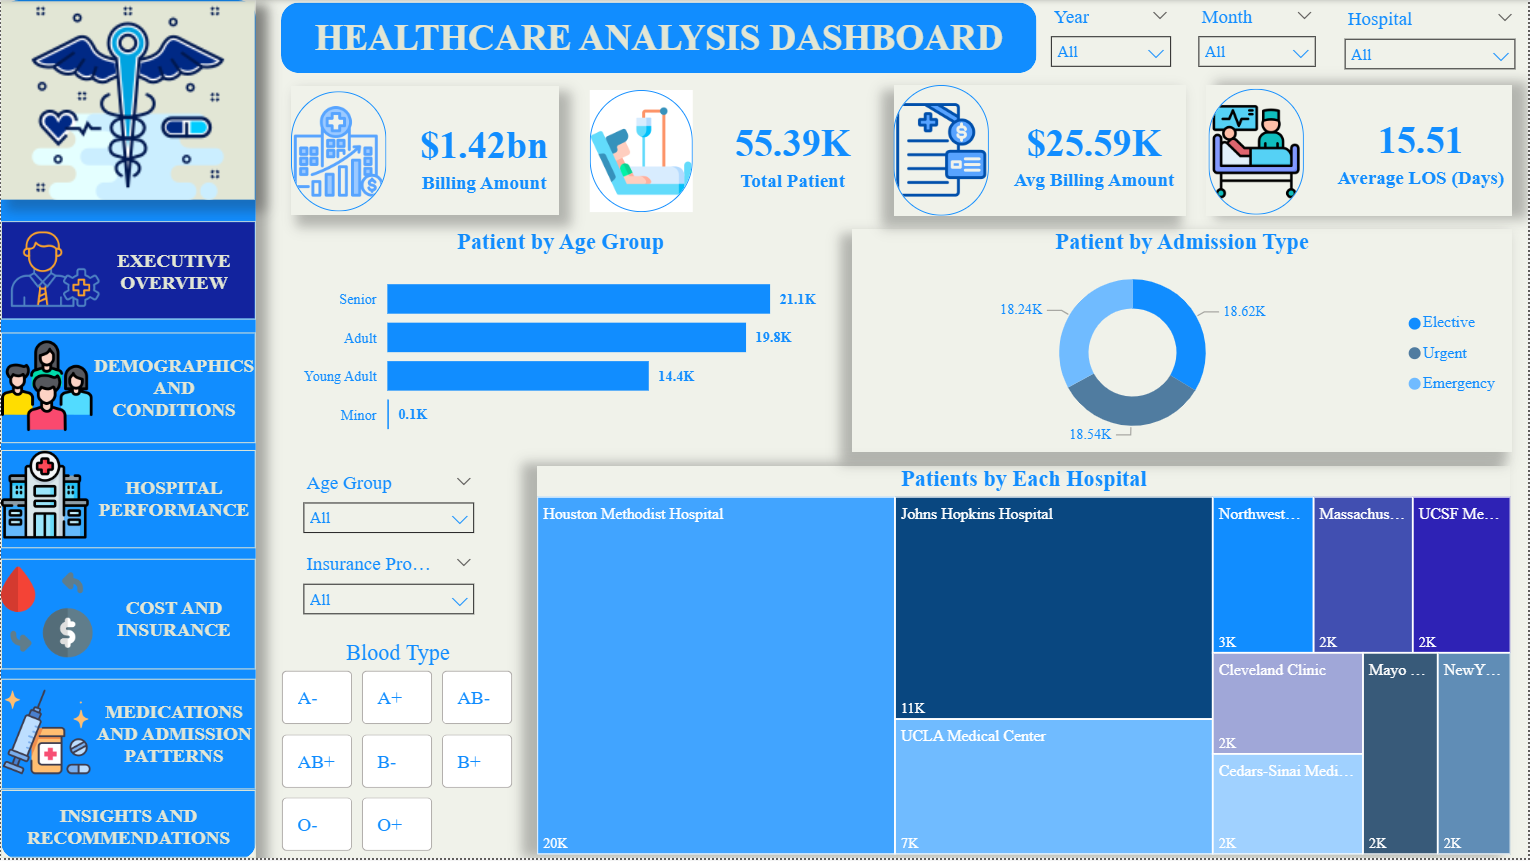

The dashboard page shown, as its layout file describes it:
{"tool":"powerbi","page":{"name":"Page 1","canvas":[1280,720],"ordinal":0},"visuals":[{"type":"shape","box":[0,0,214,720.9],"z":0,"group":"g9"},{"type":"shape","box":[234.9,2.3,633.7,59.3],"z":0},{"type":"group","id":"g1","title":"Group 5","box":[748.6,70.8,245.3,109.3],"z":0,"group":"g7"},{"type":"group","id":"g2","title":"Group 2","box":[748.6,70.8,245.3,109.3],"z":0,"group":"g1"},{"type":"shape","box":[748.6,70.8,245.3,109.3],"z":0,"group":"g2"},{"type":"group","id":"g3","title":"Group 5","box":[1010.9,71,257.1,109.3],"z":0,"group":"g8"},{"type":"group","id":"g4","title":"Group 2","box":[1010.9,71,257.1,109.3],"z":0,"group":"g3"},{"type":"shape","box":[1010.9,71,257.1,109.3],"z":0,"group":"g4"},{"type":"shape","box":[243,72.1,224.4,108.1],"z":0,"group":"g14"},{"type":"shape","box":[491.9,72.1,238.4,106.9],"z":0,"group":"g17"},{"type":"image","box":[749,71,80.2,109.3],"z":1000,"group":"g7"},{"type":"image","box":[1013.2,74.5,80.2,105.8],"z":1000,"group":"g8"},{"type":"card","fields":{"Values":["Count(Data.Patient ID)"]},"box":[600,77.7,129.1,101.2],"z":1000,"group":"g17"},{"type":"donutChart","title":"Patient by Admission Type","fields":{"Category":["Data.Admission Type"],"Y":["CountNonNull(Data.Admission Type)"]},"box":[714,191.9,553.5,187.2],"z":1000},{"type":"clusteredBarChart","title":"Patient by Age Group","fields":{"Category":["Data.Age Group"],"Y":["CountNonNull(Data.Age Group)"]},"box":[243,191.9,452.3,187.2],"z":2000},{"type":"card","fields":{"Values":["Avg(Data.Length of Stay (Days))"]},"box":[1115.6,71,151.2,108.1],"z":3000,"group":"g3"},{"type":"card","fields":{"Values":["Avg(Data.Billing Amount)"]},"box":[840.9,74.5,152.3,104.7],"z":3000,"group":"g1"},{"type":"treemap","title":"Patients by Each Hospital","fields":{"Group":["Data.Hospital"],"Values":["Data.Total Patients"]},"box":[450,390.7,816.3,325.6],"z":3000},{"type":"slicer","fields":{"Values":["Data.Date of Admission.Variation.Date Hierarchy.Year"]},"box":[869.8,0,120.9,61.6],"z":4000},{"type":"slicer","fields":{"Values":["Data.Hospital"]},"box":[1116.3,2.3,164,59.3],"z":5000},{"type":"card","fields":{"Values":["Sum(Data.Billing Amount)"]},"box":[343.9,79.3,123.3,100],"z":6000,"group":"g14"},{"type":"slicer","fields":{"Values":["Data.Age Group"]},"box":[243,390.7,164,68.6],"z":6000},{"type":"slicer","fields":{"Values":["Data.Insurance Provider"]},"box":[243,459.3,164,65.1],"z":7000},{"type":"advancedSlicerVisual","fields":{"Values":["Data.Blood Type"]},"box":[230.2,537.2,204.7,182.6],"z":8000},{"type":"slicer","fields":{"Values":["Data.Date of Admission.Variation.Date Hierarchy.Month"]},"box":[994.2,0,118.6,61.6],"z":9000},{"type":"group","id":"g5","title":"Group 3","box":[491.9,72.1,238.4,106.9],"z":10000},{"type":"group","id":"g6","title":"Group 4","box":[243,72.1,224.4,108.1],"z":11000},{"type":"group","id":"g7","title":"Group 6","box":[748.6,70.8,245.3,109.5],"z":12000},{"type":"group","id":"g8","title":"Group 6","box":[1010.9,71,257.1,109.3],"z":13000},{"type":"group","id":"g9","title":"Group 10","box":[0,0,214,720.9],"z":14000},{"type":"group","id":"g10","title":"Group 7","box":[0,184.4,214,83.3],"z":15000,"group":"g9"},{"type":"group","id":"g11","title":"Group 9","box":[0,662.8,214,57],"z":15000},{"type":"shape","box":[0,279.2,214,93],"z":16000,"group":"g13"},{"type":"group","id":"g12","title":"Group 8","box":[0,369.6,214,89.5],"z":16000,"group":"g9"},{"type":"shape","box":[0,468.8,214,93],"z":16000,"group":"g15"},{"type":"shape","box":[0,569.6,214,93],"z":16000,"group":"g16"},{"type":"shape","box":[0,662.8,214,57],"z":16000,"group":"g11"},{"type":"group","id":"g13","title":"Group 9","box":[0,279.2,214,93],"z":17000,"group":"g9"},{"type":"group","id":"g14","title":"Group 1","box":[243,72.1,224.4,108.1],"z":18000,"group":"g6"},{"type":"group","id":"g15","title":"Group 9","box":[0,468.8,214,93],"z":18000,"group":"g9"},{"type":"shape","box":[0,185.2,214,82.6],"z":18500,"group":"g10"},{"type":"image","box":[243,76.8,80.2,101.2],"z":19000,"group":"g6"},{"type":"group","id":"g16","title":"Group 9","box":[0,569.6,214,93],"z":19000,"group":"g9"},{"type":"shape","box":[0,376.5,214,82.6],"z":19500,"group":"g12"},{"type":"image","box":[0,1.2,212.8,166.3],"z":20000,"group":"g9"},{"type":"group","id":"g17","title":"Group 2","box":[491.9,72.1,238.4,106.9],"z":20000,"group":"g5"},{"type":"image","box":[494.2,75.6,86,102.3],"z":21000,"group":"g5"},{"type":"shape","box":[76.7,187.4,137.2,80.2],"z":21500,"group":"g10"},{"type":"image","box":[3.5,184.4,84.9,82.6],"z":22000,"group":"g10"},{"type":"image","box":[0,369.6,73.3,89.5],"z":23000,"group":"g12"},{"type":"shape","box":[76.7,379.4,137.2,79.1],"z":26500,"group":"g12"},{"type":"image","box":[0,280.3,76.7,87.2],"z":27001,"group":"g13"},{"type":"image","box":[0,469.9,76.7,87.2],"z":27001,"group":"g15"},{"type":"image","box":[0,570.7,76.7,87.2],"z":27001,"group":"g16"},{"type":"shape","box":[76.7,280.1,137.2,90.7],"z":27501,"group":"g13"},{"type":"shape","box":[76.7,477.2,137.2,83.7],"z":27501,"group":"g15"},{"type":"shape","box":[76.7,570.1,137.2,91.9],"z":27501,"group":"g16"},{"type":"shape","box":[0,666.5,214,52.3],"z":27501,"group":"g11"}]}

Visuals, with their boxes in screenshot pixels (x1, y1, x2, y2), scaled from the page's 1280x720 canvas onto the 1530x861 screenshot:
shape: <bbox>0, 0, 256, 860</bbox>
shape: <bbox>281, 3, 1038, 74</bbox>
"Group 5" group: <bbox>895, 85, 1188, 215</bbox>
"Group 2" group: <bbox>895, 85, 1188, 215</bbox>
shape: <bbox>895, 85, 1188, 215</bbox>
"Group 5" group: <bbox>1208, 85, 1516, 216</bbox>
"Group 2" group: <bbox>1208, 85, 1516, 216</bbox>
shape: <bbox>1208, 85, 1516, 216</bbox>
shape: <bbox>290, 86, 559, 215</bbox>
shape: <bbox>588, 86, 873, 214</bbox>
image: <bbox>895, 85, 991, 216</bbox>
image: <bbox>1211, 89, 1307, 216</bbox>
card - Count(Data.Patient ID): <bbox>717, 93, 872, 214</bbox>
"Patient by Admission Type" donutChart: <bbox>853, 229, 1515, 453</bbox>
"Patient by Age Group" clusteredBarChart: <bbox>290, 229, 831, 453</bbox>
card - Avg(Data.Length of Stay (Days)): <bbox>1333, 85, 1514, 214</bbox>
card - Avg(Data.Billing Amount): <bbox>1005, 89, 1187, 214</bbox>
"Patients by Each Hospital" treemap: <bbox>538, 467, 1514, 857</bbox>
slicer - Data.Date of Admission.Variation.Date Hierarchy.Year: <bbox>1040, 0, 1184, 74</bbox>
slicer - Data.Hospital: <bbox>1334, 3, 1529, 74</bbox>
card - Sum(Data.Billing Amount): <bbox>411, 95, 558, 214</bbox>
slicer - Data.Age Group: <bbox>290, 467, 486, 549</bbox>
slicer - Data.Insurance Provider: <bbox>290, 549, 486, 627</bbox>
advancedSlicerVisual - Data.Blood Type: <bbox>275, 642, 520, 860</bbox>
slicer - Data.Date of Admission.Variation.Date Hierarchy.Month: <bbox>1188, 0, 1330, 74</bbox>
"Group 3" group: <bbox>588, 86, 873, 214</bbox>
"Group 4" group: <bbox>290, 86, 559, 215</bbox>
"Group 6" group: <bbox>895, 85, 1188, 216</bbox>
"Group 6" group: <bbox>1208, 85, 1516, 216</bbox>
"Group 10" group: <bbox>0, 0, 256, 860</bbox>
"Group 7" group: <bbox>0, 221, 256, 320</bbox>
"Group 9" group: <bbox>0, 793, 256, 860</bbox>
shape: <bbox>0, 334, 256, 445</bbox>
"Group 8" group: <bbox>0, 442, 256, 549</bbox>
shape: <bbox>0, 561, 256, 672</bbox>
shape: <bbox>0, 681, 256, 792</bbox>
shape: <bbox>0, 793, 256, 860</bbox>
"Group 9" group: <bbox>0, 334, 256, 445</bbox>
"Group 1" group: <bbox>290, 86, 559, 215</bbox>
"Group 9" group: <bbox>0, 561, 256, 672</bbox>
shape: <bbox>0, 221, 256, 320</bbox>
image: <bbox>290, 92, 386, 213</bbox>
"Group 9" group: <bbox>0, 681, 256, 792</bbox>
shape: <bbox>0, 450, 256, 549</bbox>
image: <bbox>0, 1, 254, 200</bbox>
"Group 2" group: <bbox>588, 86, 873, 214</bbox>
image: <bbox>591, 90, 694, 213</bbox>
shape: <bbox>92, 224, 256, 320</bbox>
image: <bbox>4, 221, 106, 319</bbox>
image: <bbox>0, 442, 88, 549</bbox>
shape: <bbox>92, 454, 256, 548</bbox>
image: <bbox>0, 335, 92, 439</bbox>
image: <bbox>0, 562, 92, 666</bbox>
image: <bbox>0, 682, 92, 787</bbox>
shape: <bbox>92, 335, 256, 443</bbox>
shape: <bbox>92, 571, 256, 671</bbox>
shape: <bbox>92, 682, 256, 792</bbox>
shape: <bbox>0, 797, 256, 860</bbox>
